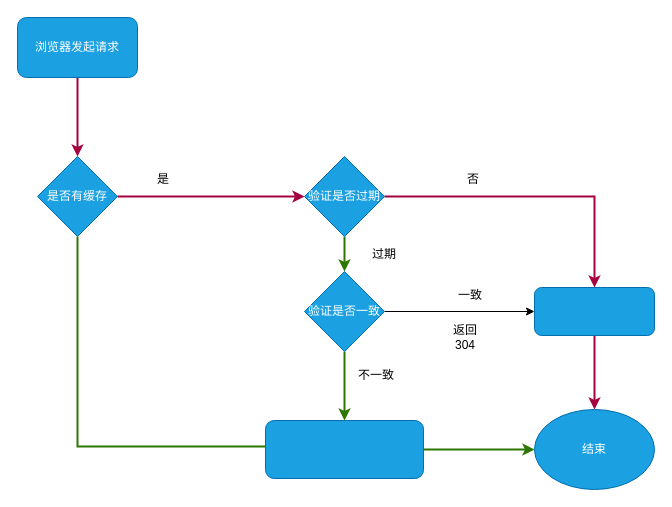
Some shapes in this 672 by 507 pixel diagram are drawn without their labels. The shapes that lost their labels are listed below. From the top down, each one's box as (x1, y1, x2, y2) in pixels, then its label:
(534, 286, 654, 336): 缓存
(264, 420, 424, 478): 重新生成数据
